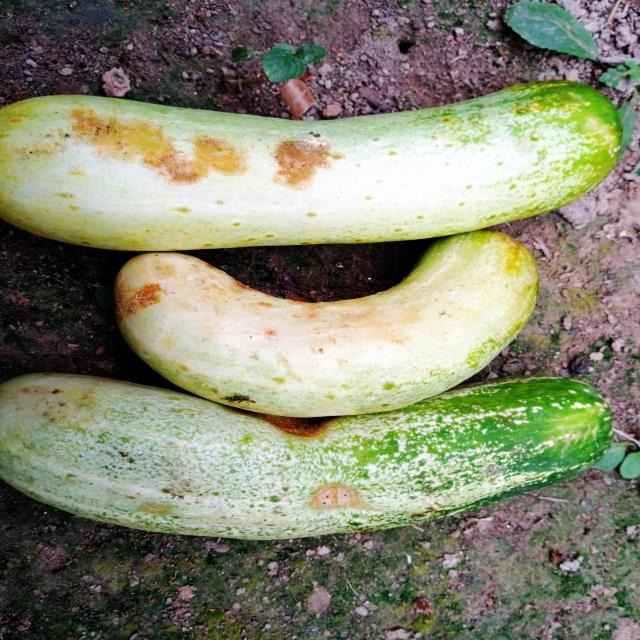Belly-Rot: (64, 100, 248, 192), (270, 134, 348, 194), (111, 273, 173, 329), (258, 408, 337, 446), (304, 480, 370, 516)
